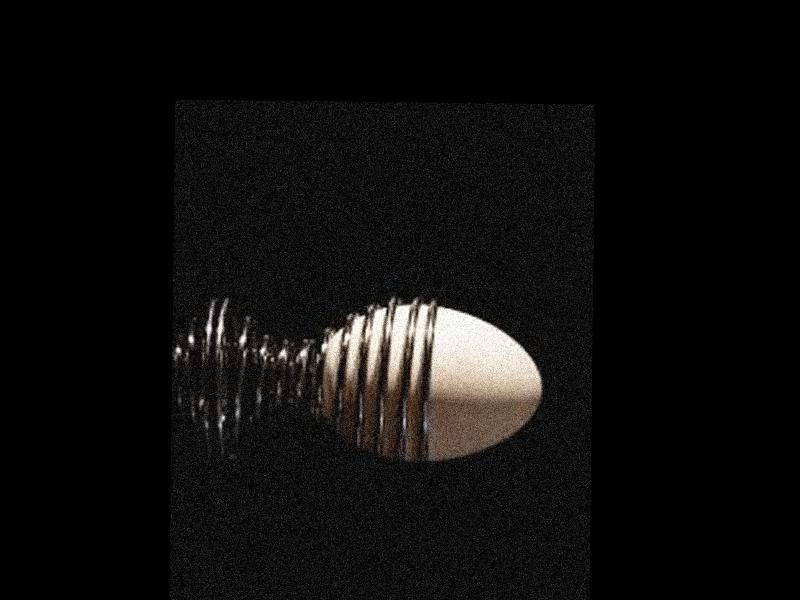Eggs: (319, 302, 544, 461)
